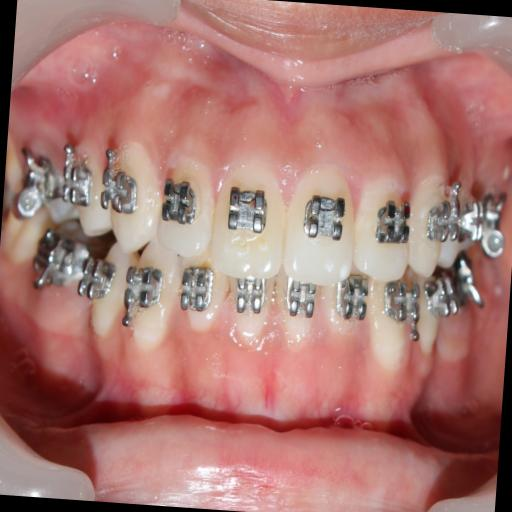correct_brace: (221, 178, 275, 239), (156, 172, 202, 232), (300, 189, 350, 243), (368, 195, 413, 251)
incorrect_brace: (348, 168, 418, 288), (154, 146, 216, 261)
